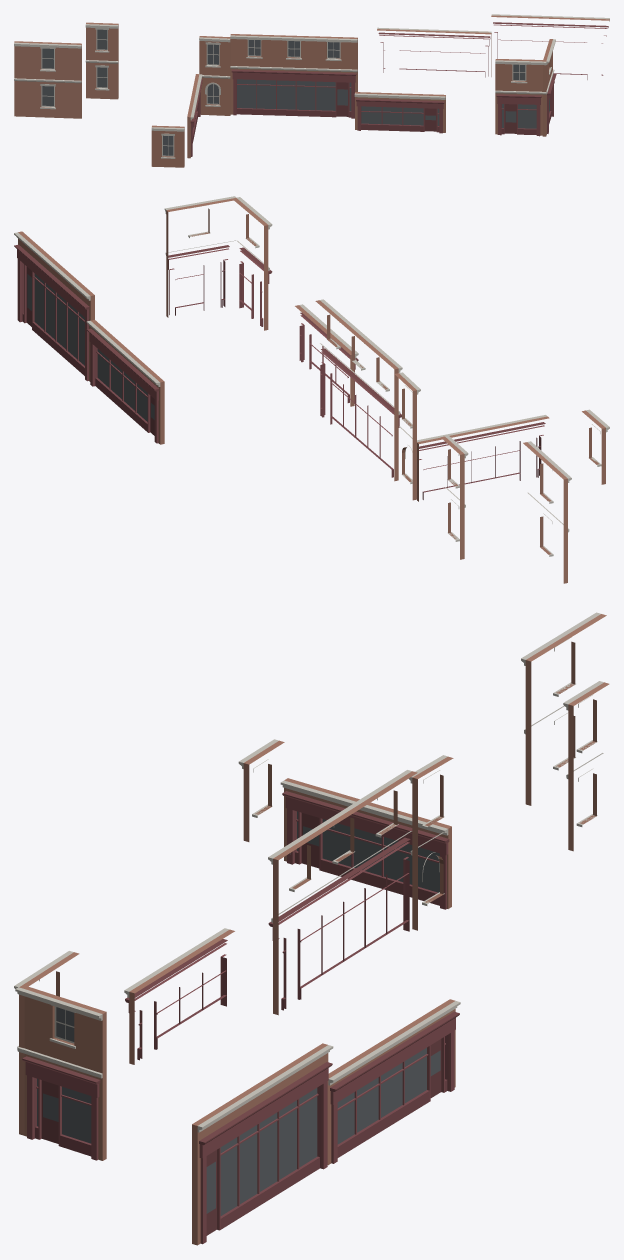
3 renders of one model, top to bottom at view 1: azimuth 30°, elevation 25°; view 2: azimuth 150°, elevation 25°; view 3: azimuth 270°, elevation 25°, orthographic. The views are drawn at different scales.
Parts seen in each view (by area): view 1: f:way/179837563, f:way/179837568; view 2: f:way/179837563, f:way/179837568; view 3: f:way/179837563, f:way/179837568.
Boxes of the visible parts, x1,y1,x2,y2 form: f:way/179837563: (151,14,609,167); f:way/179837568: (14,22,118,118); f:way/179837563: (14,196,609,501); f:way/179837568: (441,435,571,583); f:way/179837563: (14,739,460,1245); f:way/179837568: (521,612,609,851).
Size of the model in its own units: 41.17 by 6.7 by 21.91.
